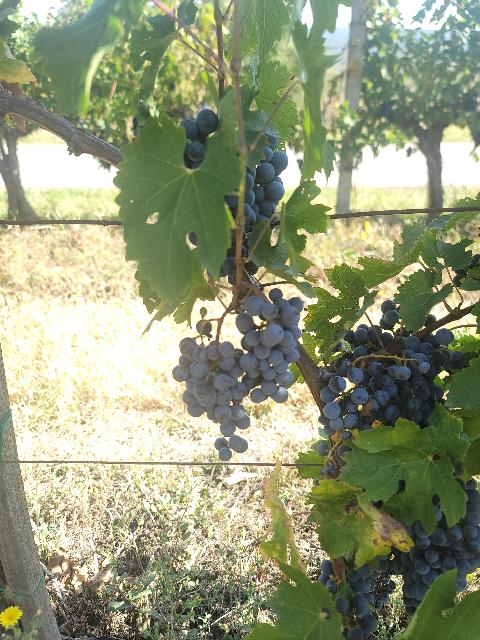grapes: (392, 478, 480, 615), (172, 338, 250, 461), (235, 290, 304, 401)
